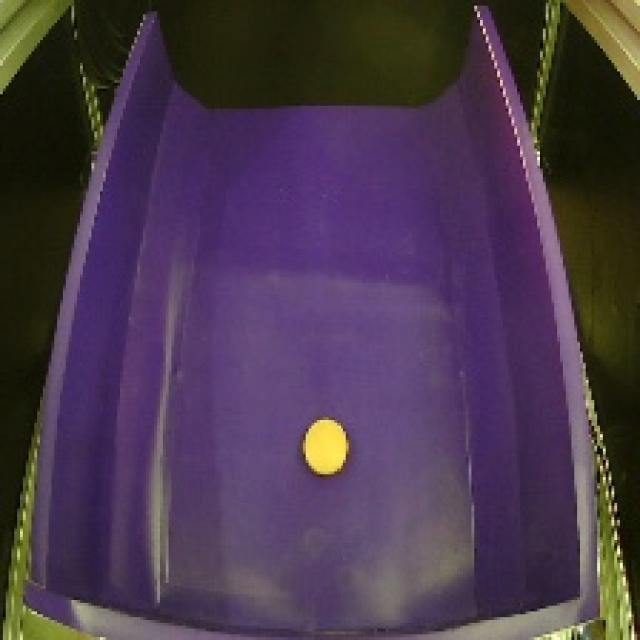small: (298, 415, 357, 478)
